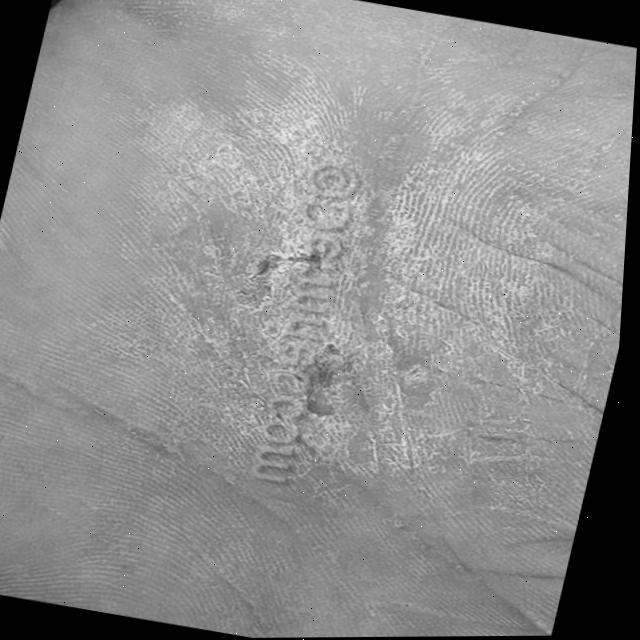Eczema: (64, 60, 573, 507)
